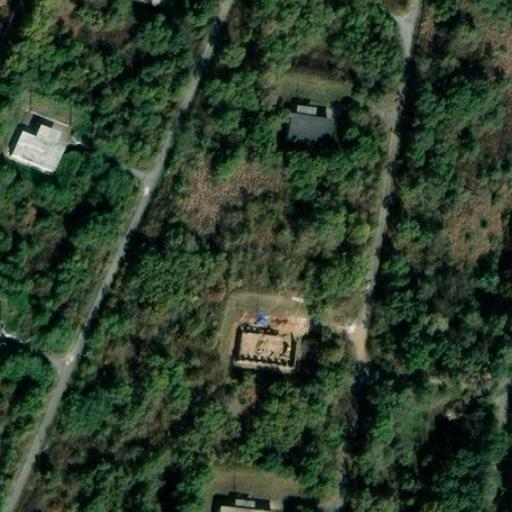building: (6, 130, 61, 180), (239, 321, 296, 367), (284, 109, 330, 148), (214, 502, 251, 512)
